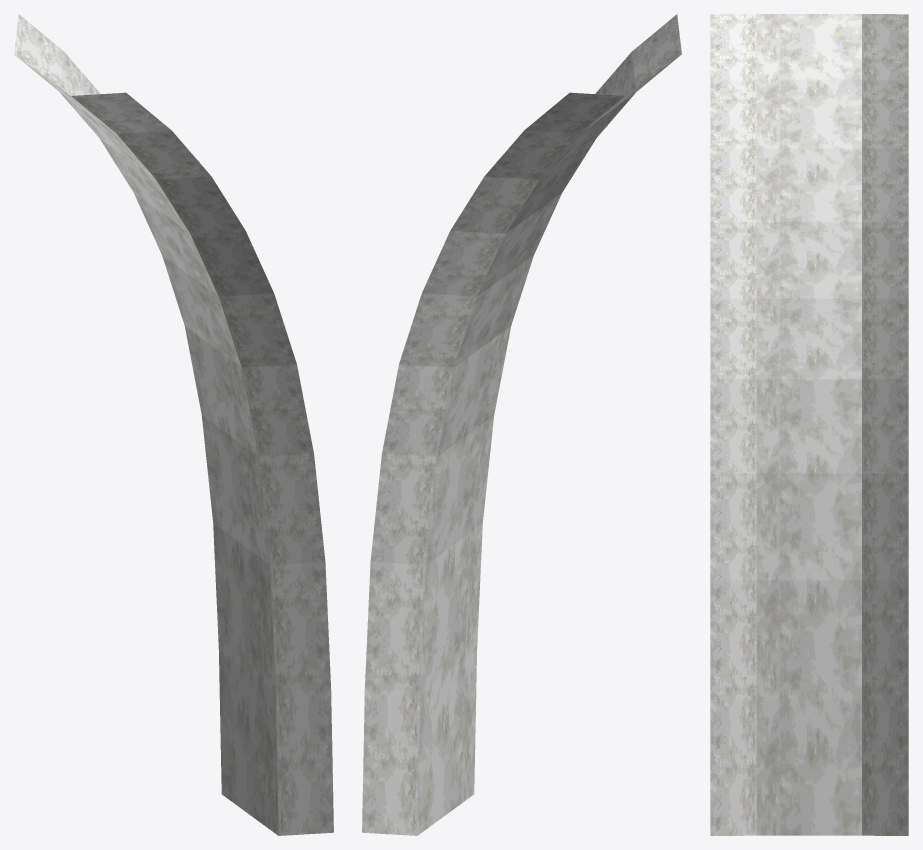
File: Waterfall.obj
The picture shows the model from 3 angles, left to right: view 1: azimuth 30°, elevation 25°; view 2: azimuth 150°, elevation 25°; view 3: azimuth 270°, elevation 25°; orthographic projection. The views are drawn at different scales.
Size of the model in its own units: 3.62 by 11.71 by 2.83.
